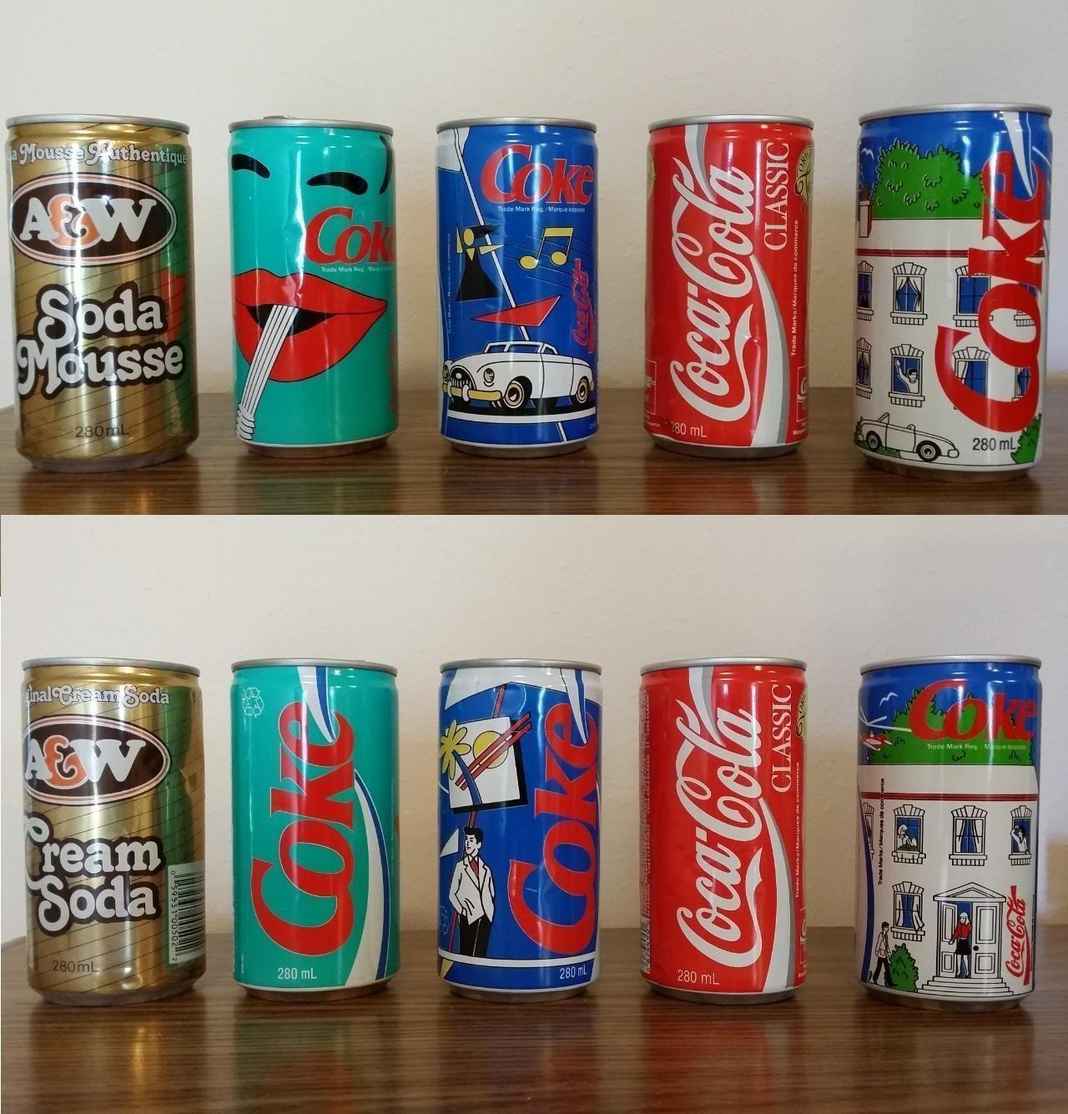tin can: (851, 98, 1059, 484), (4, 113, 199, 473), (854, 650, 1047, 1012), (18, 653, 208, 1008), (635, 652, 810, 1007), (641, 111, 818, 461), (227, 654, 404, 1003), (433, 653, 608, 1005), (225, 113, 401, 459), (432, 113, 602, 461)
